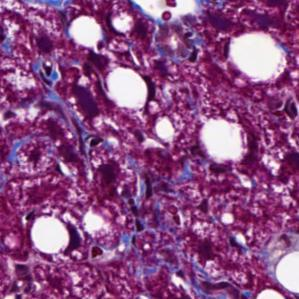inflammation: (94, 157, 131, 194)
